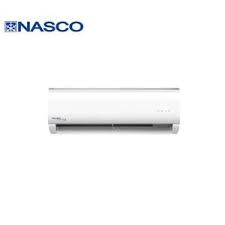ac: (46, 85, 184, 139)
